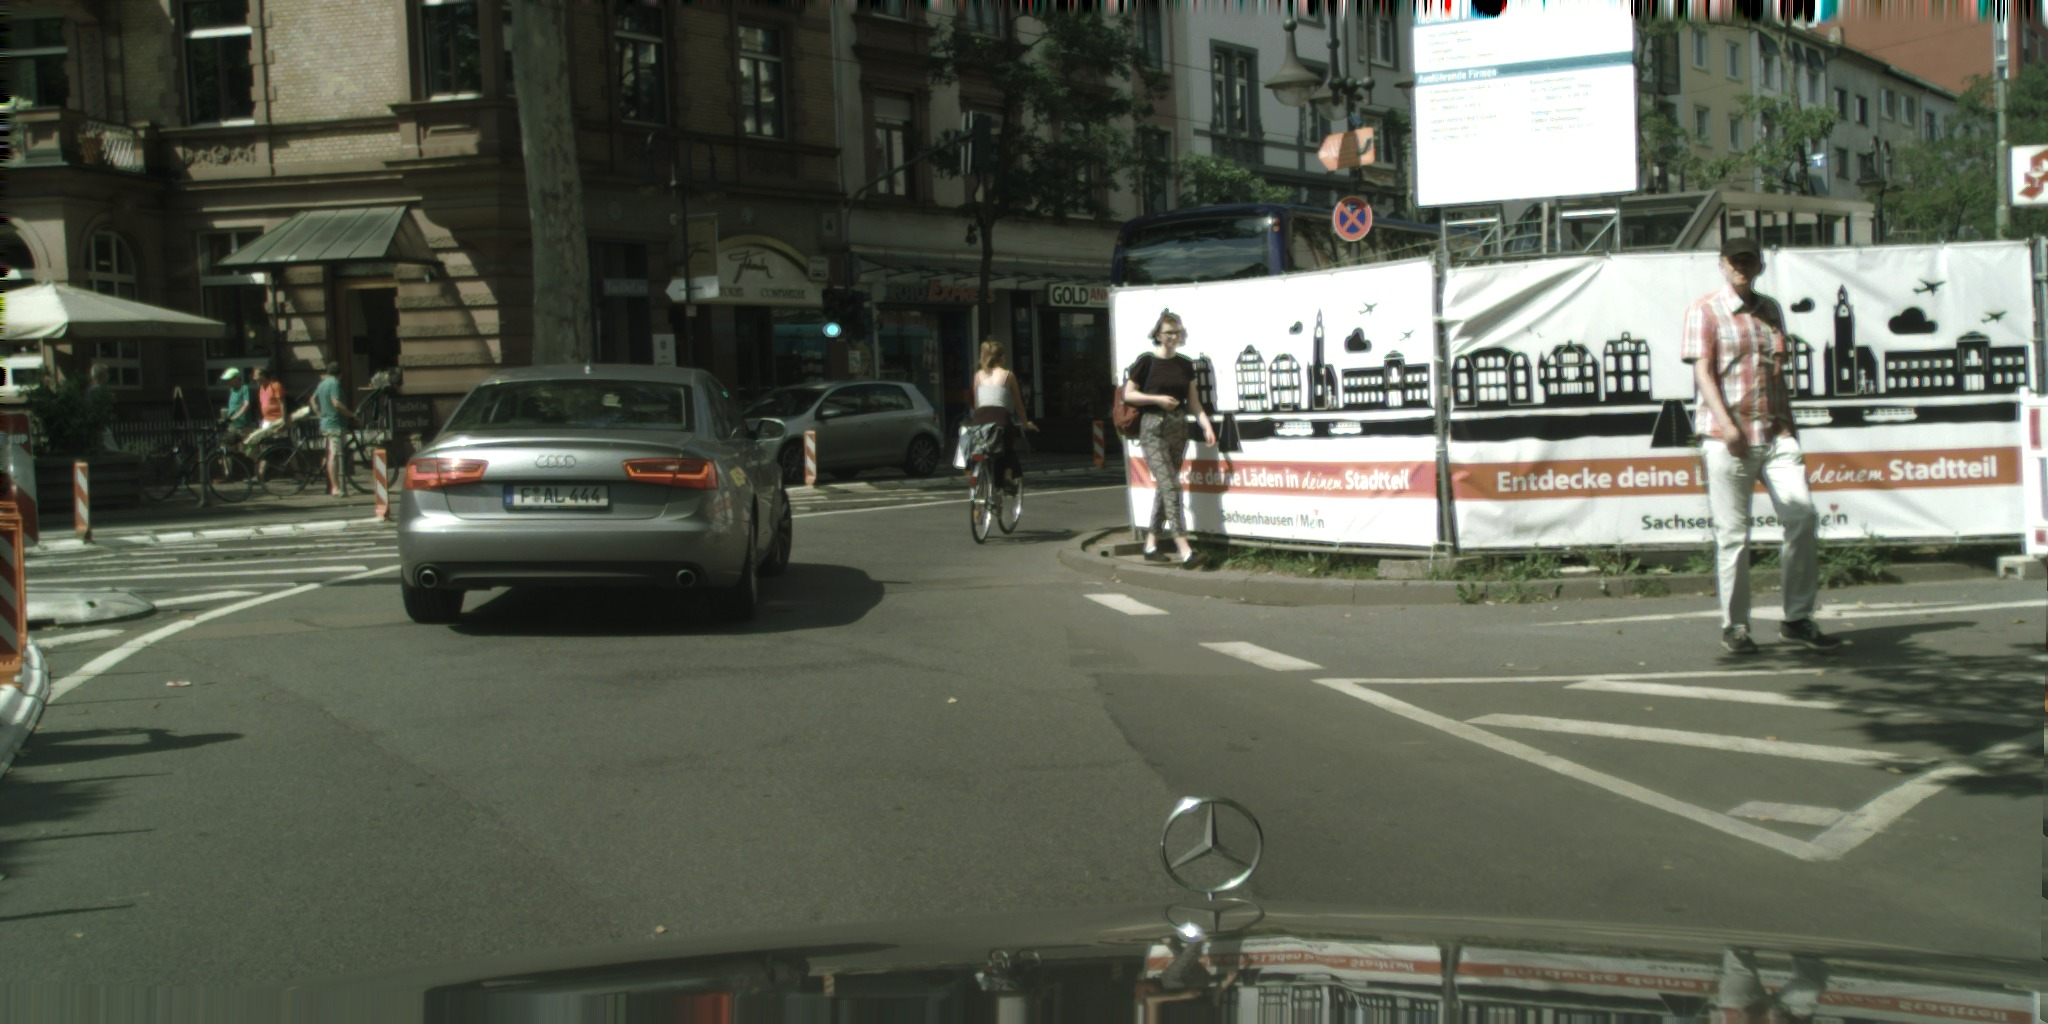bicycle: (254, 417, 400, 497), (137, 418, 253, 503), (968, 444, 1023, 544), (1010, 423, 1033, 428)
bus: (1110, 202, 1483, 322)
car: (395, 364, 793, 624), (733, 380, 946, 485)
person: (1679, 236, 1840, 654), (1112, 307, 1216, 570), (244, 365, 310, 466), (219, 367, 266, 485), (74, 364, 121, 463)
rider: (966, 341, 1038, 498), (309, 361, 359, 496)
